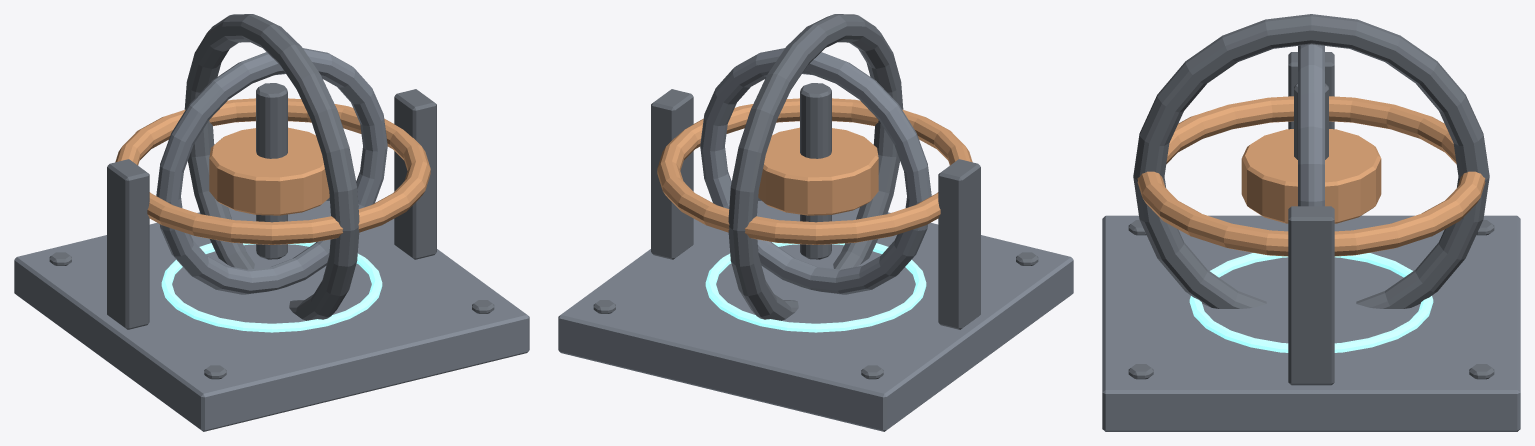
Rendered from gyroscope.glb.
The picture shows the model from 3 angles, left to right: view 1: azimuth 30°, elevation 25°; view 2: azimuth 150°, elevation 25°; view 3: azimuth 270°, elevation 25°; orthographic projection. The views are drawn at different scales.
Parts seen in each view (by area): view 1: gyroscope; view 2: gyroscope; view 3: gyroscope.
Boxes of the visible parts, x1=… form: gyroscope: x1=14, y1=14, x2=529, y2=431; gyroscope: x1=558, y1=14, x2=1073, y2=431; gyroscope: x1=1102, y1=14, x2=1520, y2=431.
Size of the model in its own units: 0.27 by 0.235 by 0.27.
